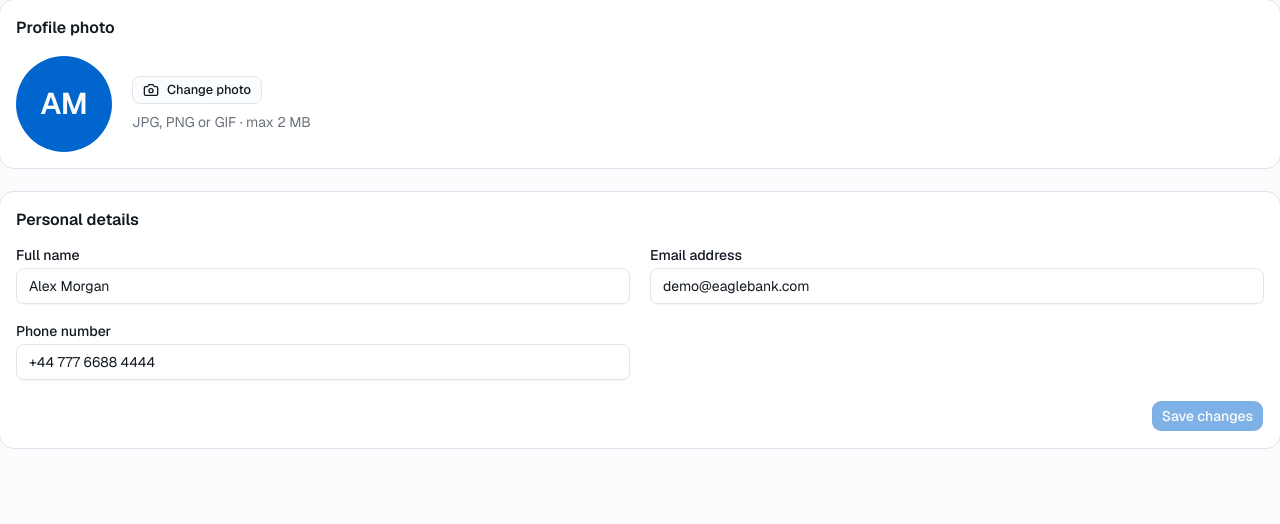
Test: ProfileForm › shows success message after saving
This screenshot has width=1280, height=524.
Replace the text in the field labelled "Full name" with "Alex Jones". click: (323, 286)
box: [16,268,630,304]
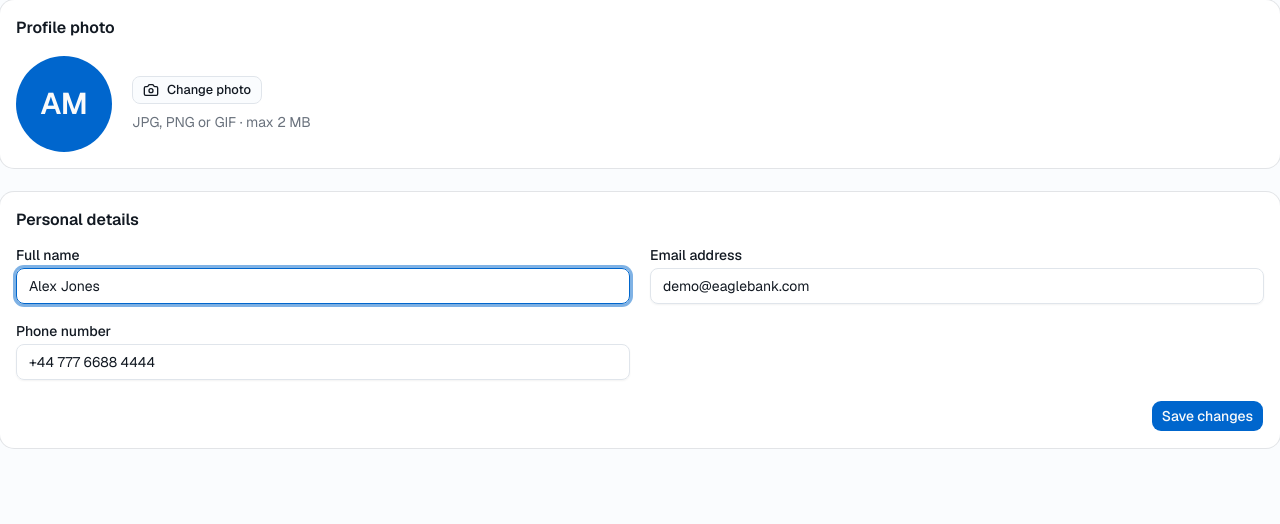
Click the button "Save changes". click: (1207, 416)
box: [1151,400,1264,432]
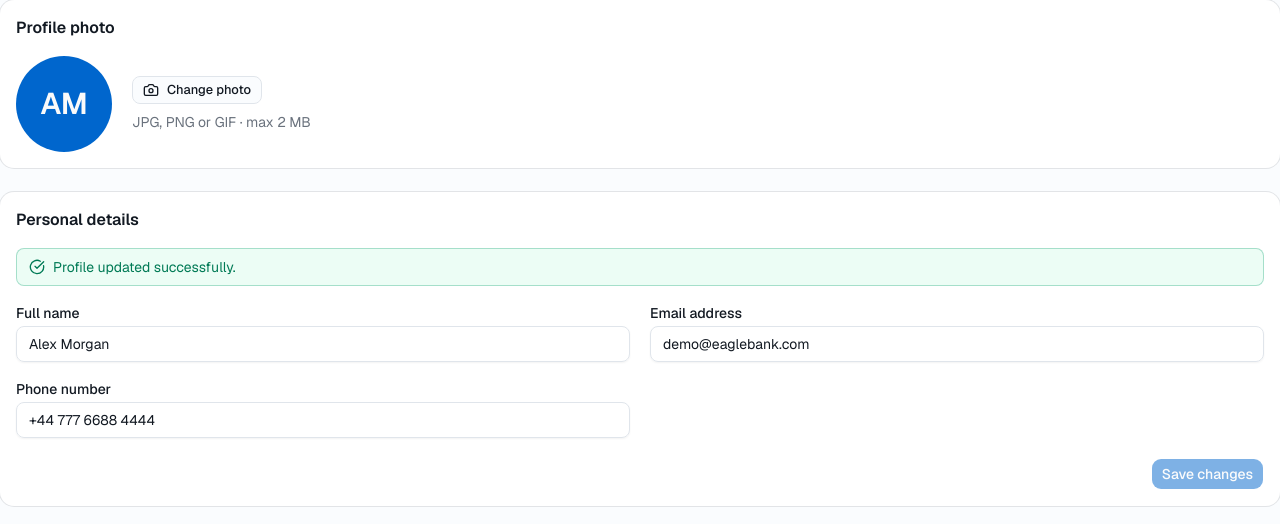
Expected: the text "Profile updated successfully." is shown, [16,248,1264,286]
